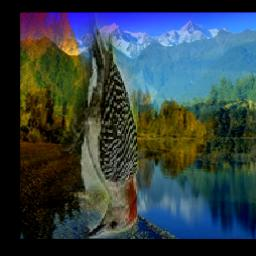Woodpecker: (58, 12, 138, 238)
